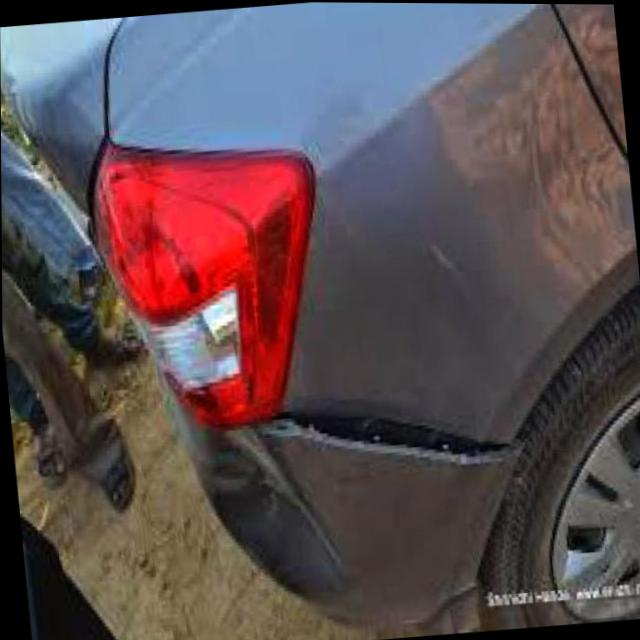Car-Damage: (197, 364, 535, 603)
